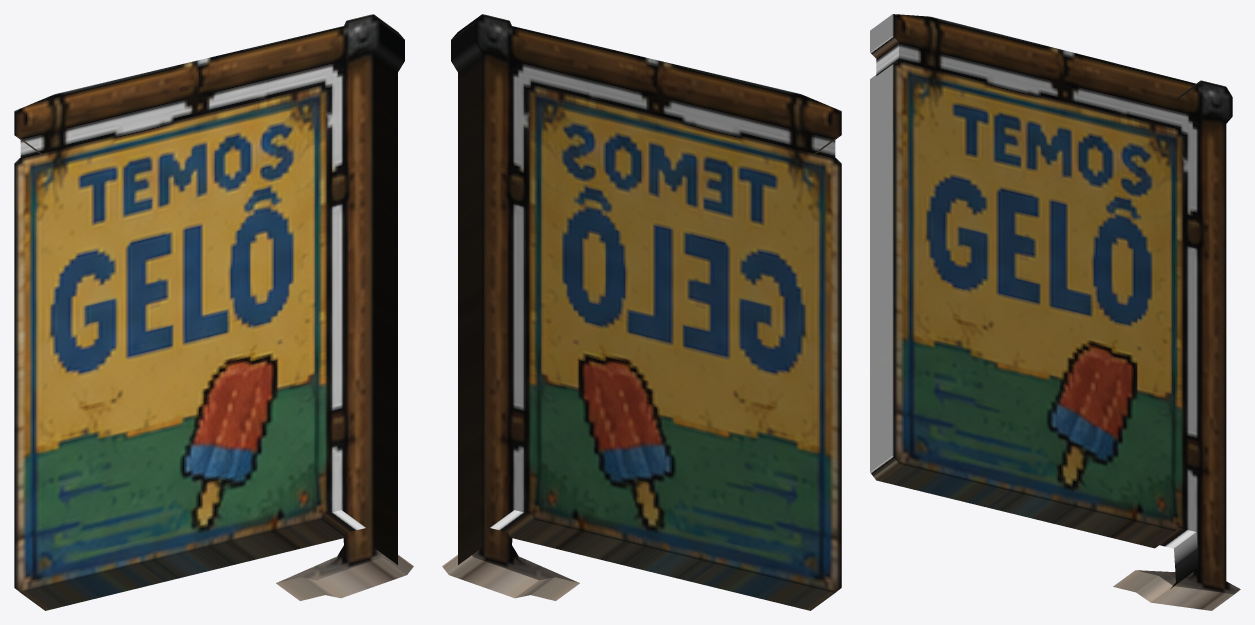
The model's file is props_07.glb.
The picture shows the model from 3 angles, left to right: view 1: azimuth 30°, elevation 25°; view 2: azimuth 150°, elevation 25°; view 3: azimuth 330°, elevation 25°; orthographic projection. The views are drawn at different scales.
Parts seen in each view (by area): view 1: world; view 2: world; view 3: world.
Boxes of the visible parts, x1,y1,x2,y2 form: world: [14, 14, 413, 610]; world: [442, 14, 841, 610]; world: [870, 14, 1240, 610].
Bounding box in the file's own units: 1.65 × 2.32 × 0.1864.
Materials: 1 (1 with a texture image).
